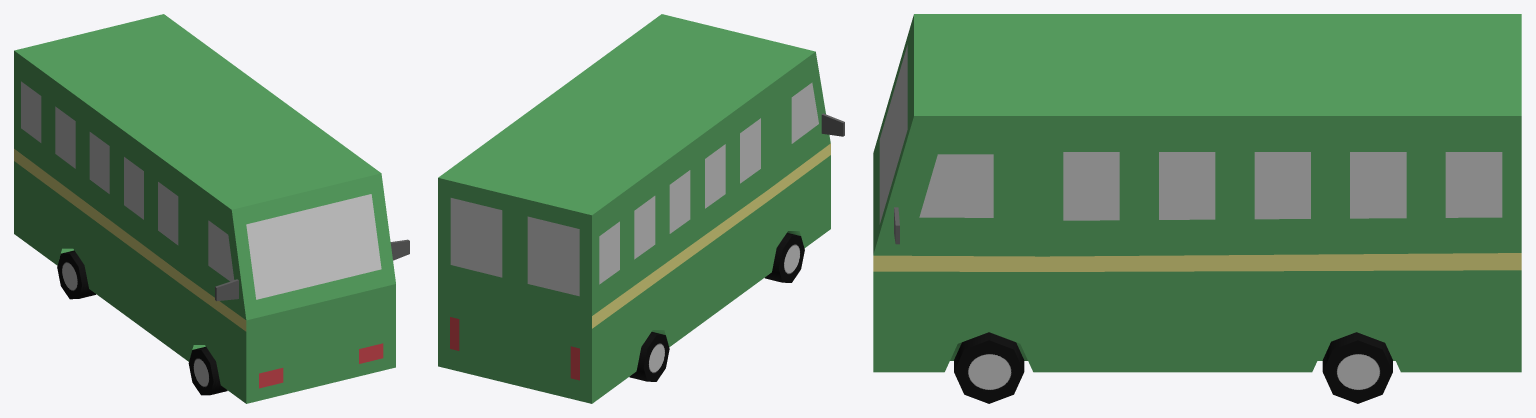
The model's file is Bus_2.FBX.
The picture shows the model from 3 angles, left to right: view 1: azimuth 30°, elevation 25°; view 2: azimuth 150°, elevation 25°; view 3: azimuth 270°, elevation 25°; orthographic projection. The views are drawn at different scales.
Parts seen in each view (by area): view 1: Bus 02; view 2: Bus 02; view 3: Bus 02.
Boxes of the visible parts, x1,y1,x2,y2 form: Bus 02: (14,14,409,403); Bus 02: (438,14,844,403); Bus 02: (873,14,1521,403).
Bounding box in the file's own units: 1.98 × 2 × 4.12.
1 material, 1 textured.
